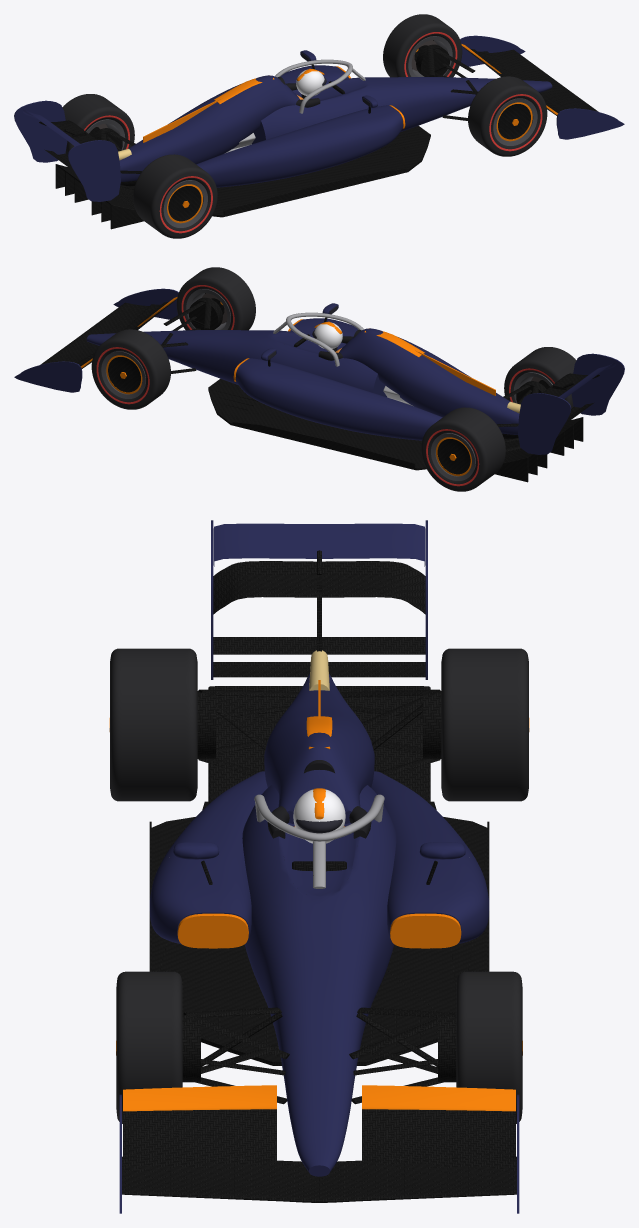
The model's file is modern.glb.
3 renders of one model, top to bottom at view 1: azimuth 30°, elevation 25°; view 2: azimuth 150°, elevation 25°; view 3: azimuth 270°, elevation 25°, orthographic. The views are drawn at different scales.
Visible parts, largest first — view 1: Sidepod_R, Chassis, EngineCover, Tyre_RR, RearWing, Floor, Tyre_FR, FrontWing, Tyre_FL, Tyre_RL, Diffuser, Floor_Edge_R (+9 smaller); view 2: Sidepod_L, Chassis, EngineCover, Tyre_RL, RearWing, Floor, Tyre_FL, FrontWing, Tyre_FR, Tyre_RR, Diffuser, Floor_Edge_L (+9 smaller); view 3: FrontWing, Chassis, Floor, Tyre_RL, Tyre_RR, Sidepod_L, Sidepod_R, EngineCover, RearWing, Diffuser, Tyre_FL, Tyre_FR (+12 smaller).
Boxes of the visible parts, <box> form: Sidepod_R: <box>196,105,403,187</box>; Chassis: <box>252,77,552,144</box>; EngineCover: <box>119,75,299,181</box>; Tyre_RR: <box>133,154,217,238</box>; RearWing: <box>14,100,120,201</box>; Floor: <box>212,125,430,217</box>; Tyre_FR: <box>468,76,547,156</box>; FrontWing: <box>460,35,624,139</box>; Tyre_FL: <box>383,14,462,77</box>; Tyre_RL: <box>62,94,134,155</box>; Diffuser: <box>55,164,143,229</box>; Floor_Edge_R: <box>223,169,406,214</box>; Sidepod_L: <box>235,358,442,440</box>; Chassis: <box>86,330,386,397</box>; EngineCover: <box>339,328,519,434</box>; Tyre_RL: <box>421,407,505,491</box>; RearWing: <box>518,353,624,454</box>; Floor: <box>208,378,426,470</box>; Tyre_FL: <box>91,329,170,409</box>; FrontWing: <box>14,288,178,392</box>; Tyre_FR: <box>176,267,255,330</box>; Tyre_RR: <box>504,347,576,408</box>; Diffuser: <box>495,417,583,482</box>; Floor_Edge_L: <box>232,422,415,467</box>; FrontWing: <box>119,1085,519,1213</box>; Chassis: <box>242,785,396,1176</box>; Floor: <box>151,801,487,1065</box>; Tyre_RL: <box>441,648,529,801</box>; Tyre_RR: <box>109,648,197,801</box>; Sidepod_L: <box>371,771,489,944</box>; Sidepod_R: <box>149,771,267,944</box>; EngineCover: <box>264,674,374,823</box>; RearWing: <box>211,520,427,679</box>; Diffuser: <box>208,686,430,803</box>; Tyre_FL: <box>456,971,522,1123</box>; Tyre_FR: <box>116,971,182,1123</box>.
Bounding box in the file's own units: 5.8 × 1 × 1.98.
Materials: 21 (1 with a texture image).
